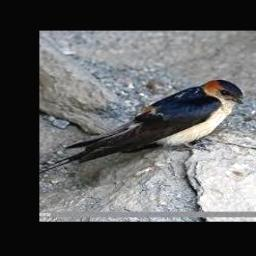Swallow: (39, 80, 244, 173)
